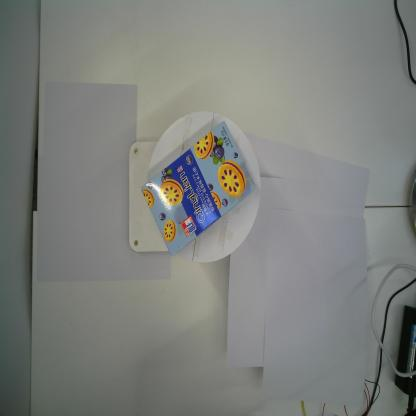Dessert: (141, 121, 256, 257)
